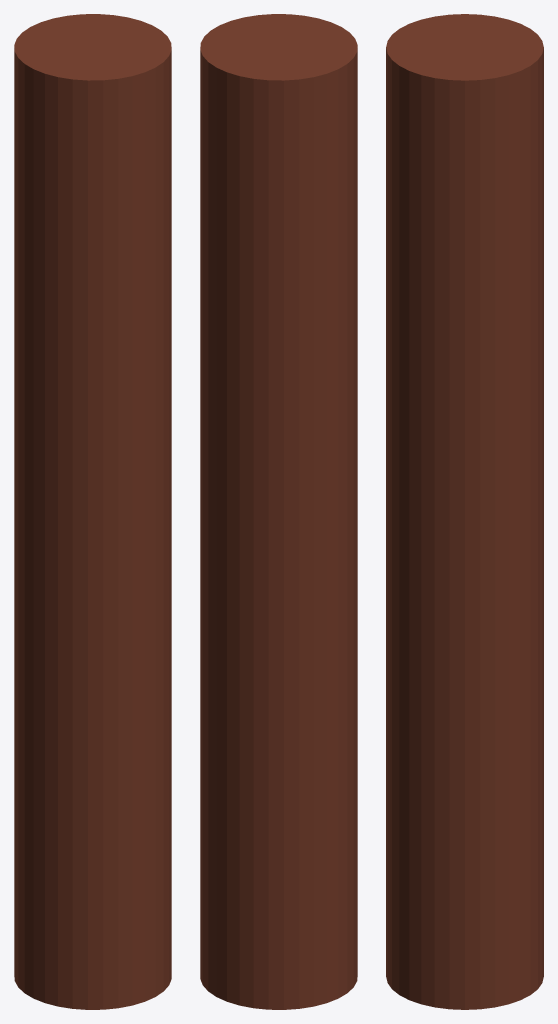
Rendered from stick.glb.
The picture shows the model from 3 angles, left to right: view 1: azimuth 30°, elevation 25°; view 2: azimuth 150°, elevation 25°; view 3: azimuth 270°, elevation 25°; orthographic projection.
Visible parts, largest first — view 1: Cylinder.001; view 2: Cylinder.001; view 3: Cylinder.001.
Boxes of the visible parts, x1,y1,x2,y2 form: Cylinder.001: [14, 14, 171, 1009]; Cylinder.001: [200, 14, 357, 1009]; Cylinder.001: [386, 14, 543, 1009].
Size of the model in its own units: 0.2 by 1.3 by 0.2.
